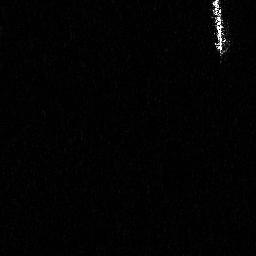ship: (210, 1, 228, 56)
